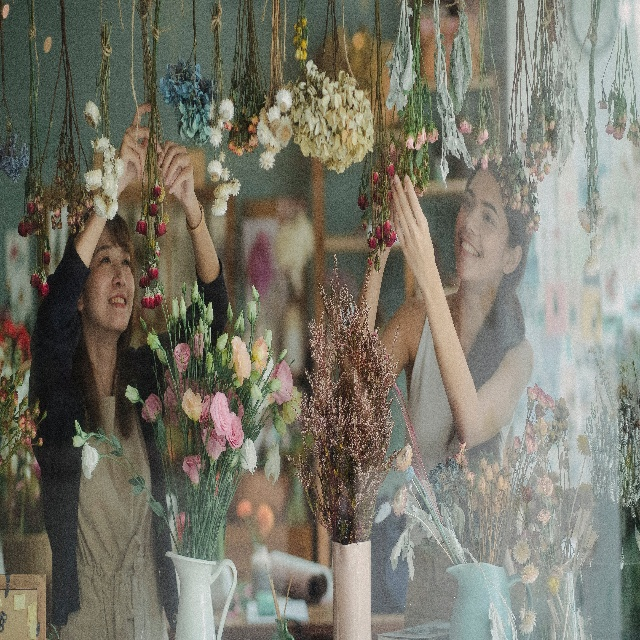Sin_guantes: (391, 172, 434, 274), (119, 99, 161, 179), (157, 137, 196, 200)
